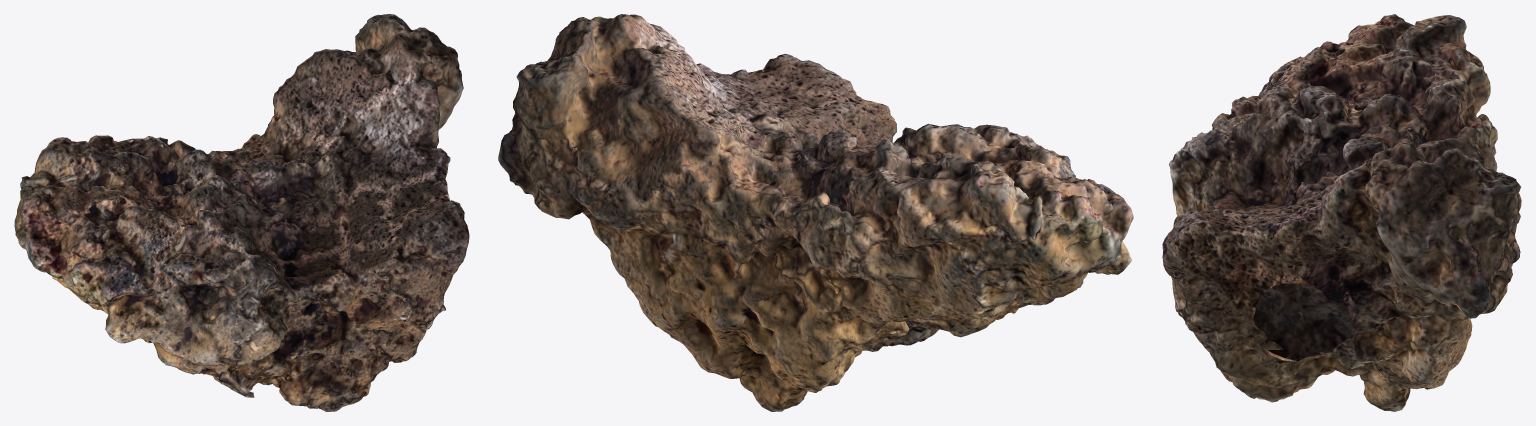
Rendered from asteroid.obj.
3 views of the same model, side by side, from view 1: azimuth 30°, elevation 25°; view 2: azimuth 150°, elevation 25°; view 3: azimuth 270°, elevation 25° (orthographic). The views are drawn at different scales.
Visible parts, largest first — view 1: #Spacerock_Small; view 2: #Spacerock_Small; view 3: #Spacerock_Small.
Boxes of the visible parts, x1,y1,x2,y2 form: #Spacerock_Small: [14, 14, 469, 411]; #Spacerock_Small: [498, 14, 1133, 411]; #Spacerock_Small: [1162, 14, 1521, 411].
Size of the model in its own units: 2.93 by 1.83 by 1.8.
1 material, 1 textured.
